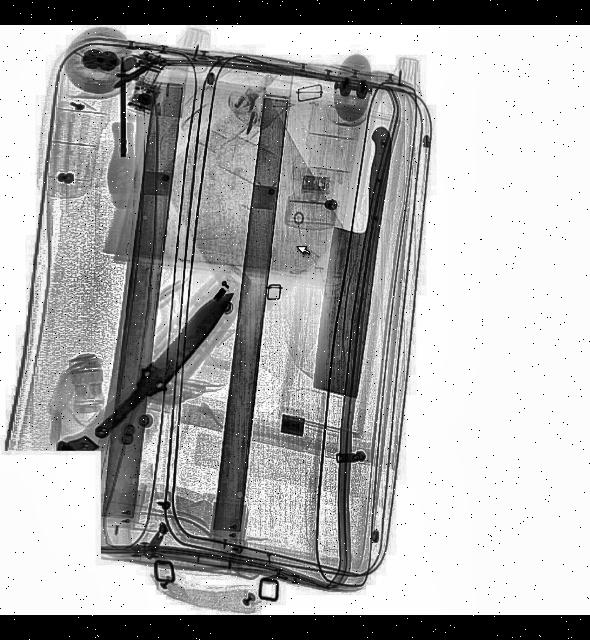Knife: (307, 120, 399, 398), (88, 282, 240, 446)
